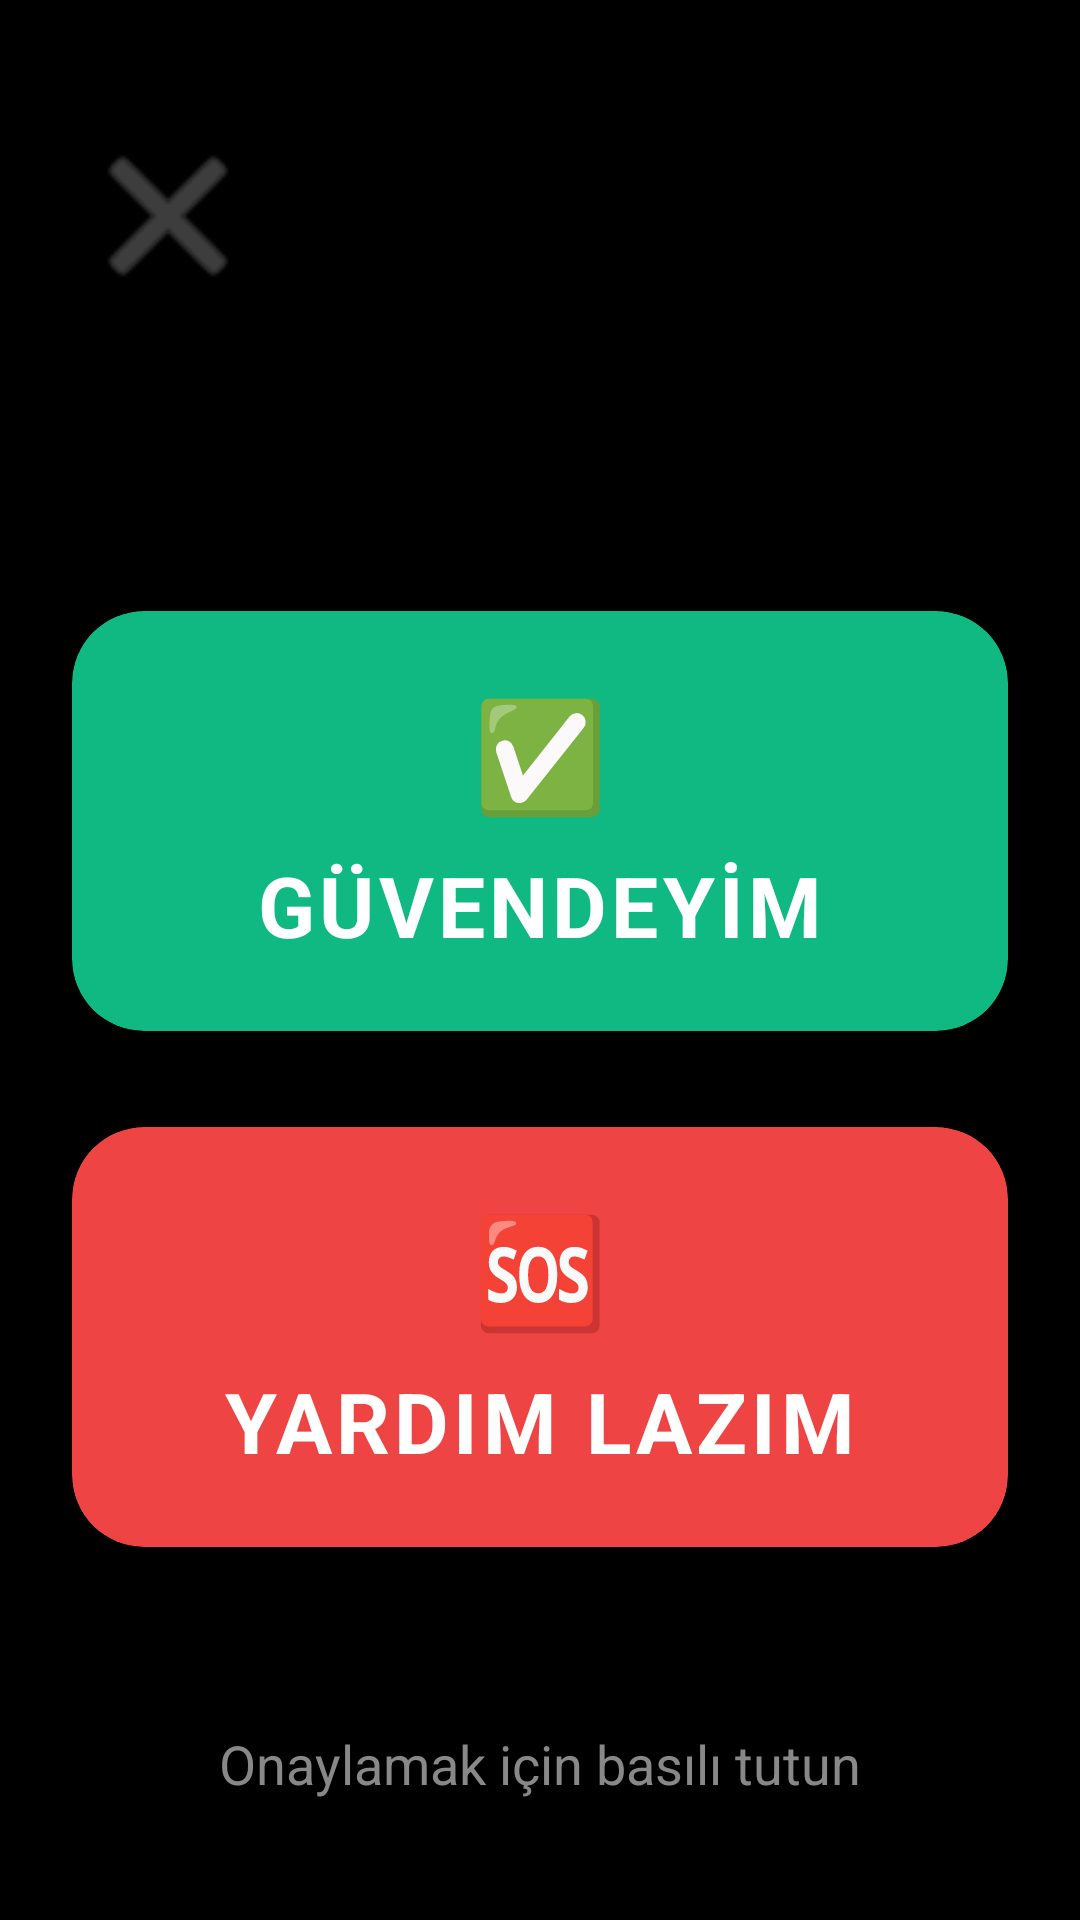

Icons on this 1080 x 1920 Android screen, each with its box as (x1=x1, y1=y1, x2=x2, y2=y2):
Çıkış: (x1=109, y1=157, x2=227, y2=275)
